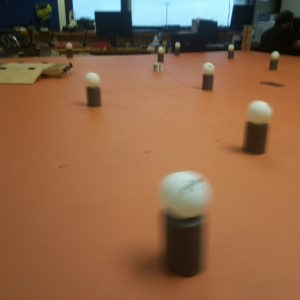obstacle: (156, 173, 213, 282), (245, 99, 271, 157), (84, 73, 103, 111), (200, 61, 215, 94), (268, 50, 282, 73), (65, 43, 75, 61), (174, 43, 183, 61), (156, 47, 165, 63), (226, 44, 234, 61)
side: (46, 63, 74, 78)
slope: (1, 68, 45, 86)
